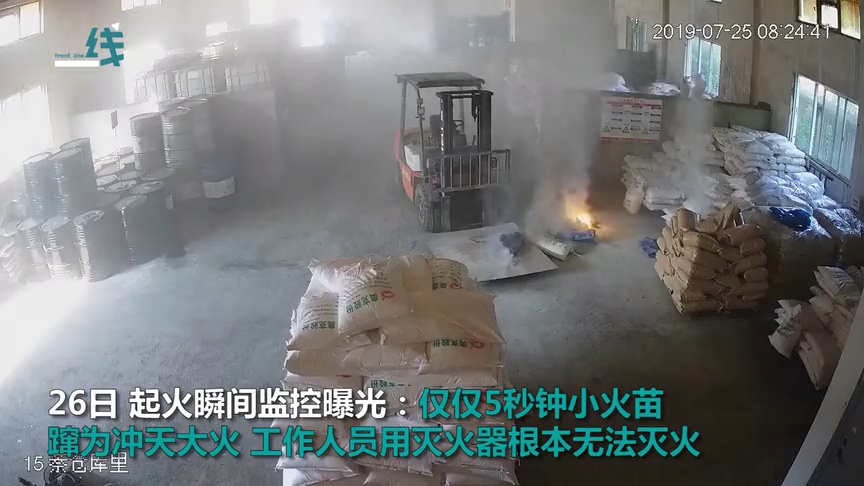fire: (572, 206, 596, 230)
smoke: (551, 98, 592, 211), (518, 140, 565, 236)
